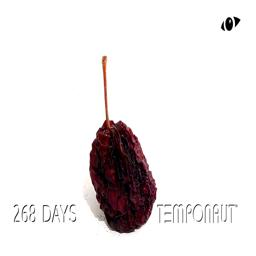Apple Rotten: (75, 17, 177, 236)
